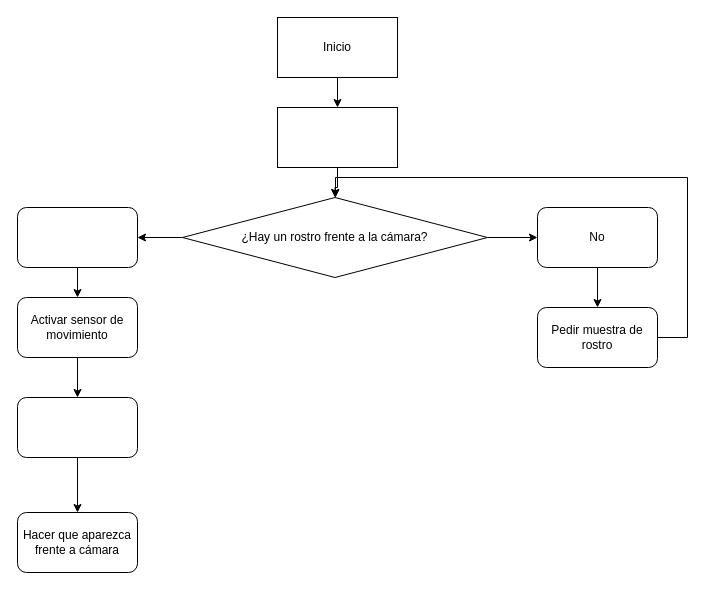
This 713x590 diagram has some shape labels left out. Each missing label, with the box of its shape:
Abrir cámara: (276, 106, 398, 168)
Ejecutar código del dibujo: (16, 396, 138, 458)
Sí: (16, 206, 138, 268)
